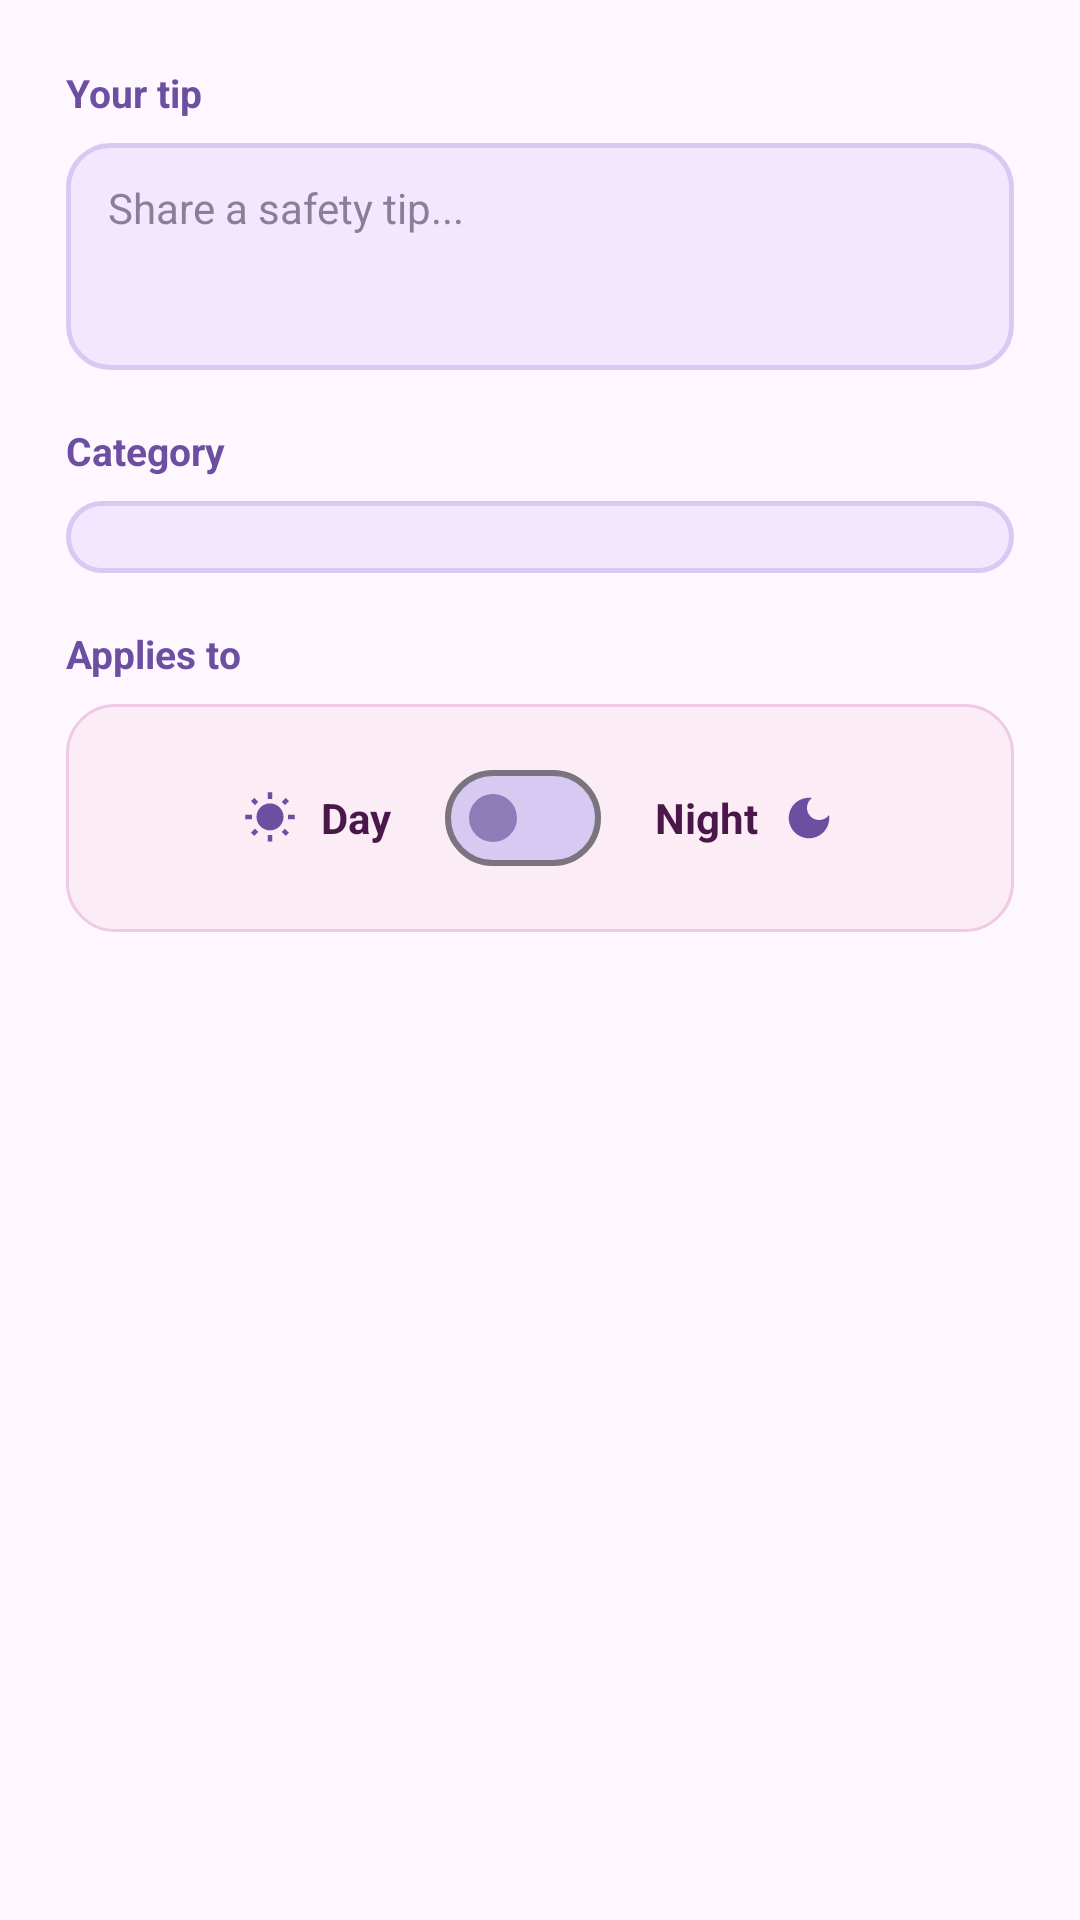

Icons on this 1080w x 1920h Android screen, each with its box as (x1, y1, x2, y2):
rgr moon: (788, 797, 830, 839)
rgr sun: (245, 792, 295, 842)
